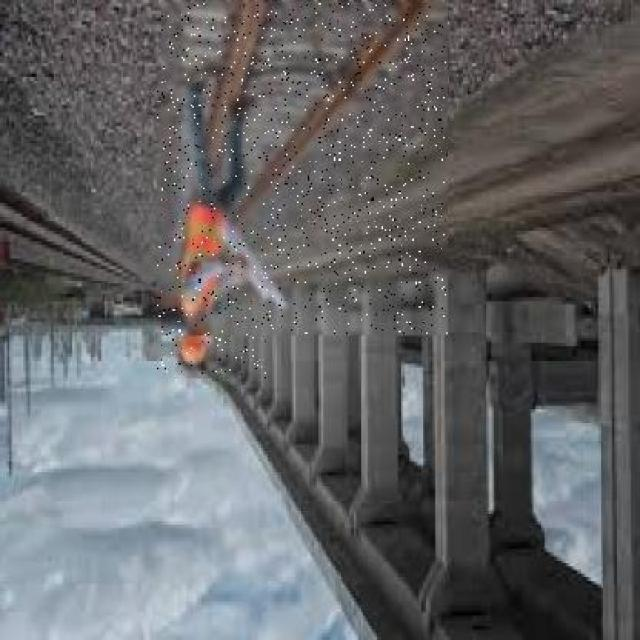rail: (163, 4, 448, 335)
